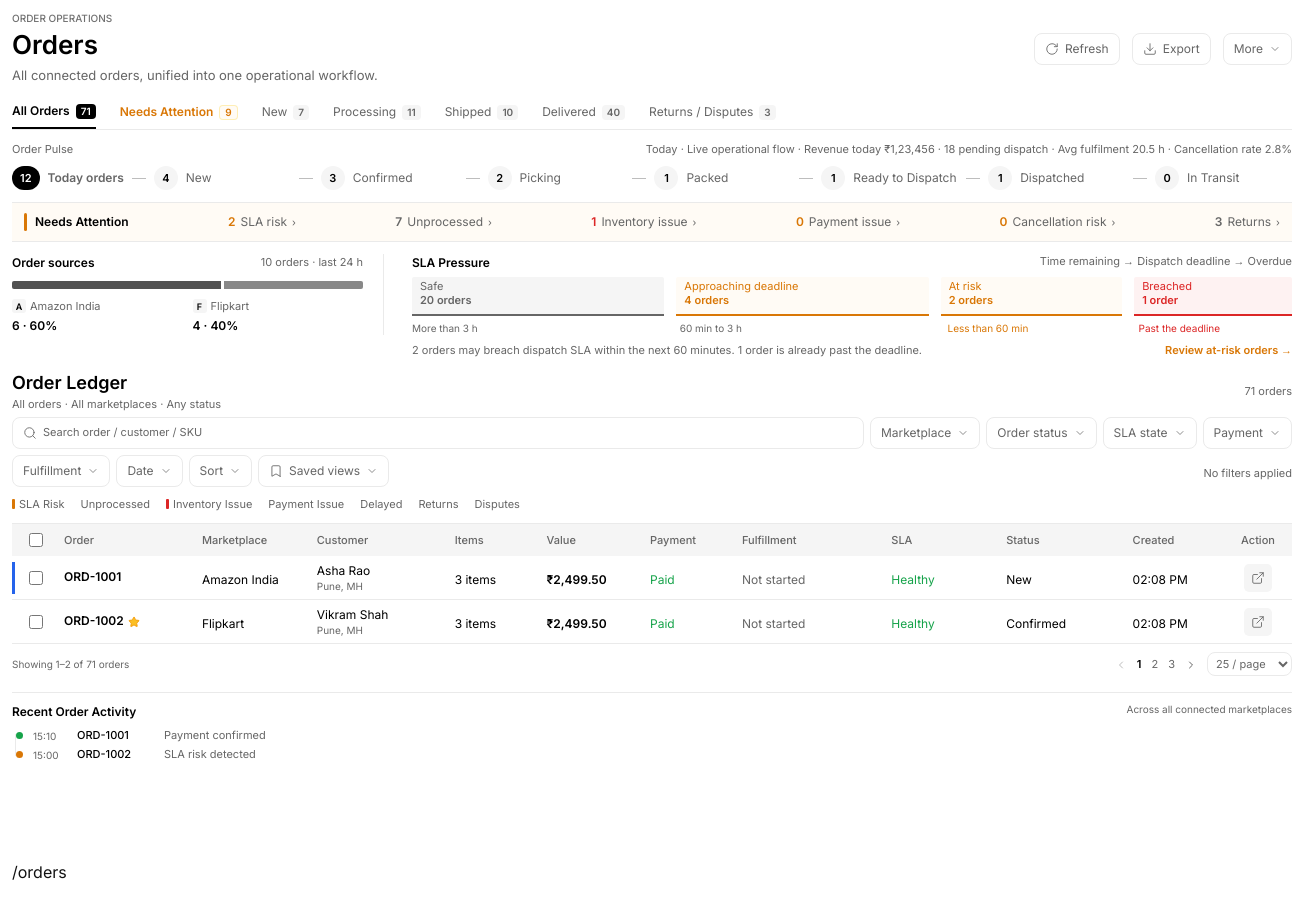
Scenario: pulse, needs attention, sources, SLA pressure and tabs from the API › counts what needs attention and filters the list by it
Expected: the button "7 Unprocessed ›" is shown, [395,213,492,231]
Expected: the button "2 SLA risk ›" is shown, [228,213,296,231]
Click the button "1 Inventory issue ›" at (644, 222), box [591,213,696,231]
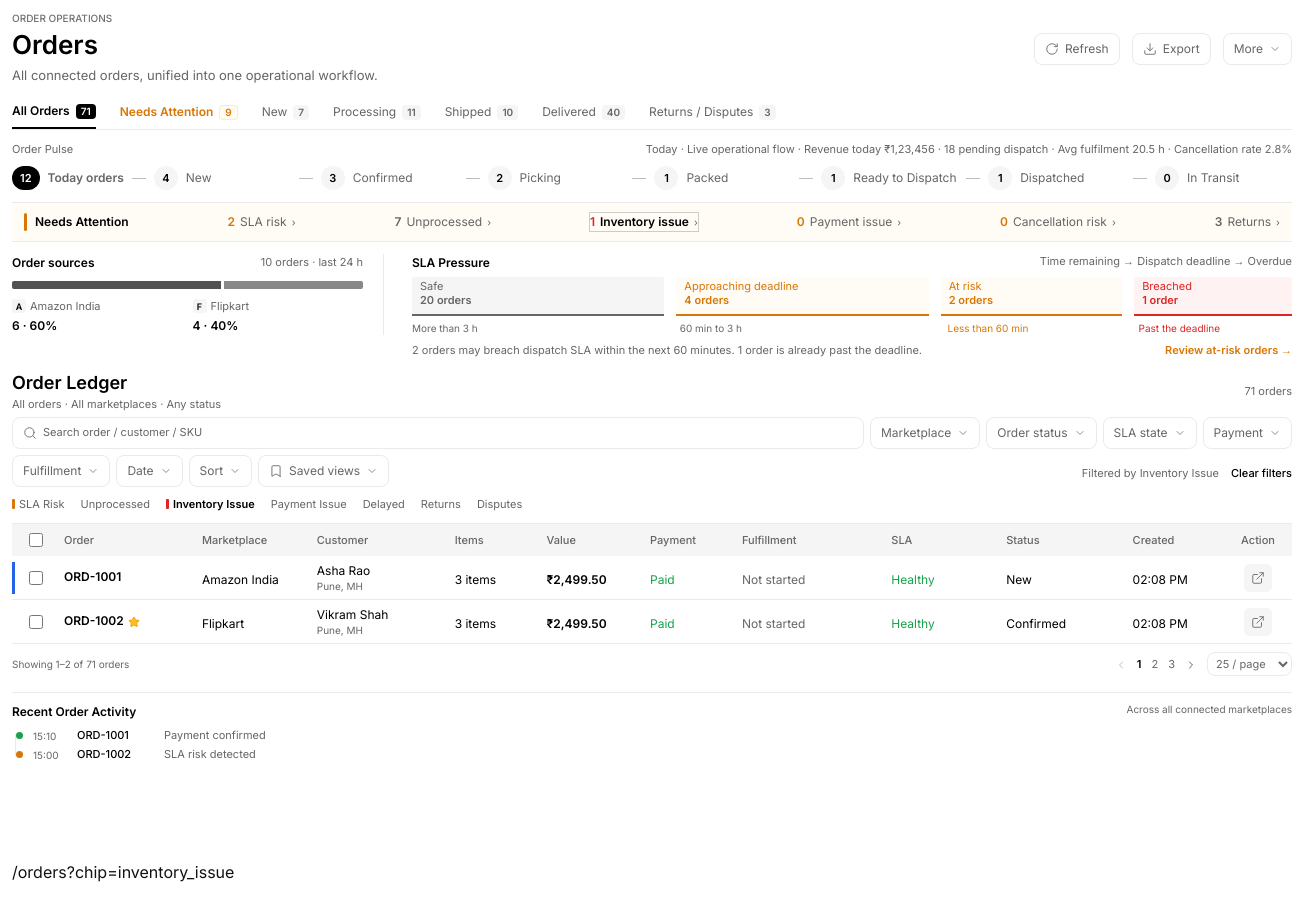
Expected: the text with test id "loc" shows "chip=inventory_issue", [12,862,234,882]
Expected: the text "Filtered by Inventory Issue" is shown, [1082,466,1219,480]
Click the button "1 Inventory issue ›" at (644, 222), box [590,213,698,231]
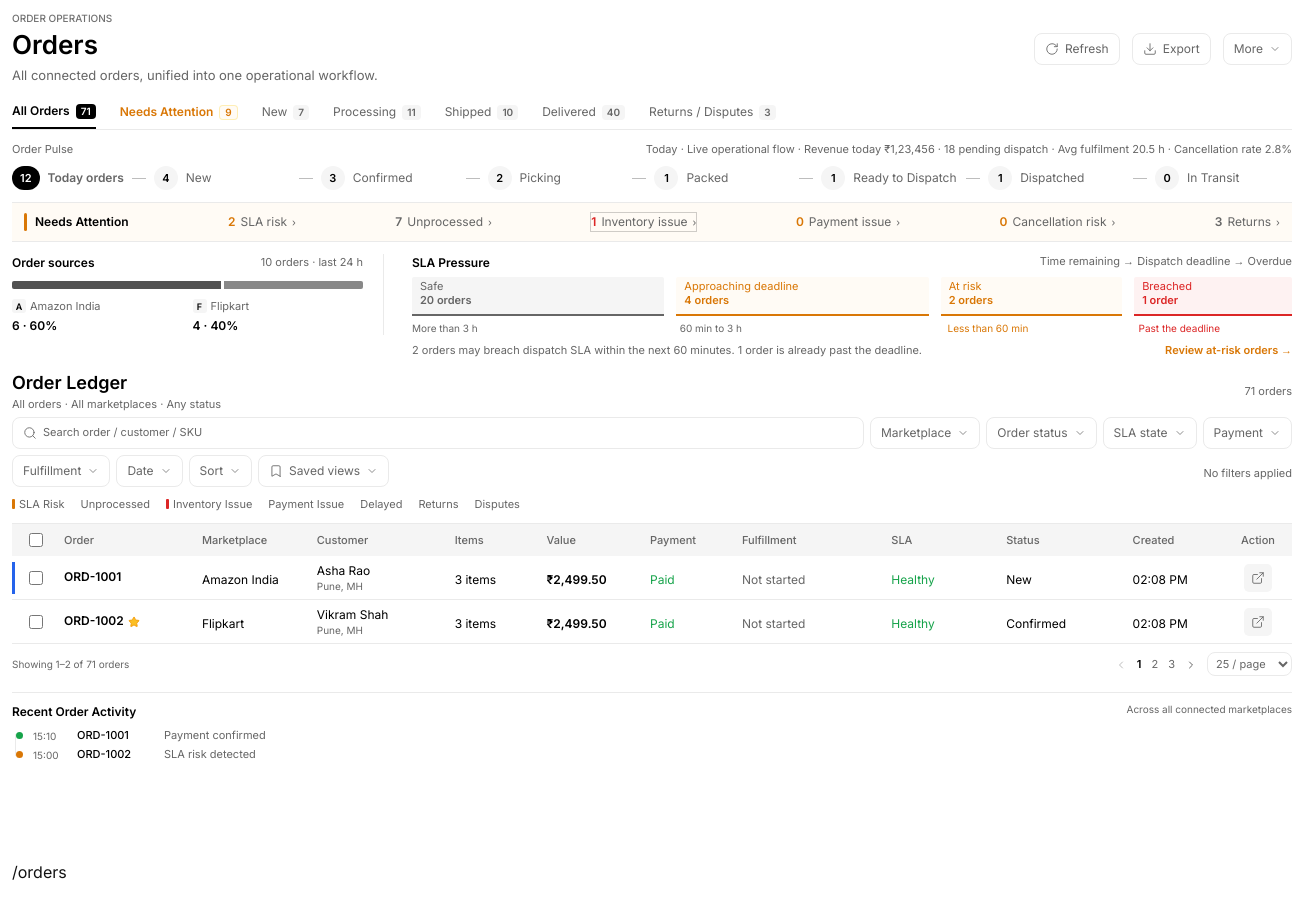
Expected: the text with test id "loc" no longer shows "chip"
